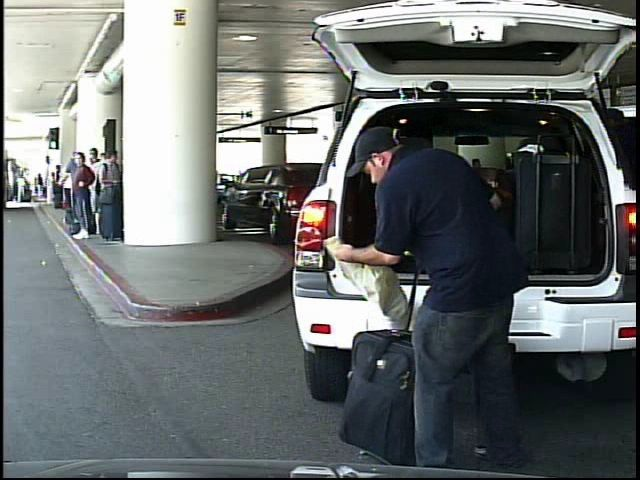person: (335, 110, 524, 471), (17, 174, 28, 205), (36, 172, 46, 199)
